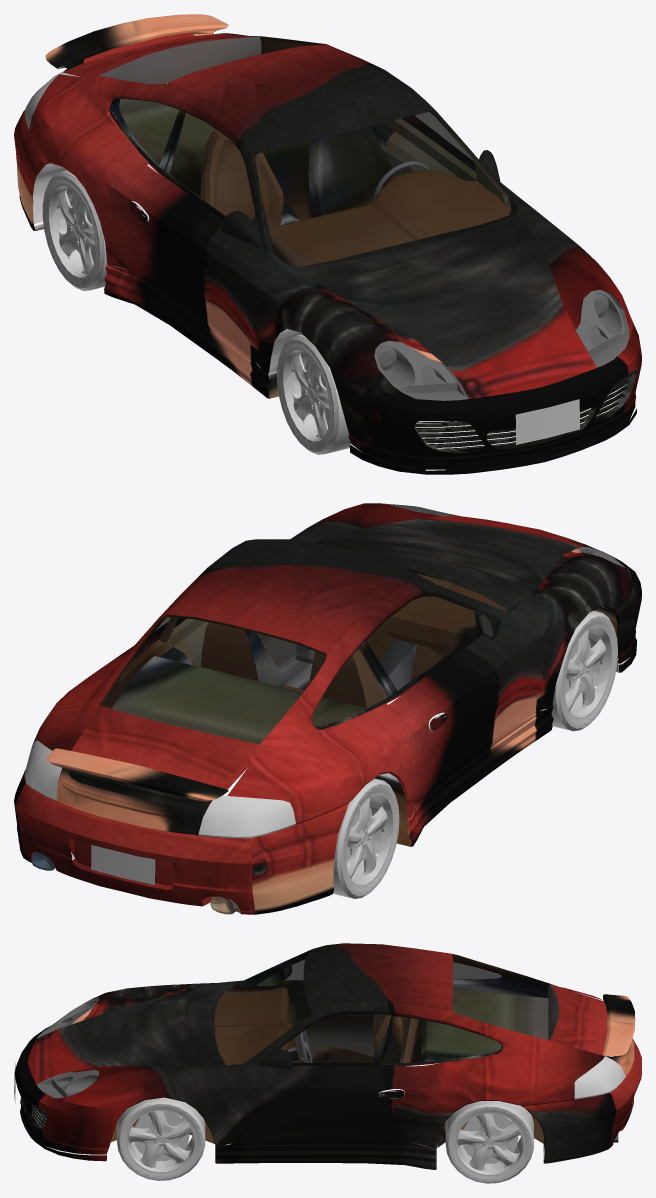
File: sport_car.dae
The picture shows the model from 3 angles, top to bottom: view 1: azimuth 30°, elevation 25°; view 2: azimuth 150°, elevation 25°; view 3: azimuth 270°, elevation 25°; orthographic projection. The views are drawn at different scales.
Parts seen in each view (by area): view 1: car_sports; view 2: car_sports; view 3: car_sports.
Boxes of the visible parts, x1,y1,x2,y2 form: car_sports: (14,14,641,474); car_sports: (14,503,641,914); car_sports: (14,943,641,1183).
Bounding box in the file's own units: 85.98 × 208 × 60.13.
